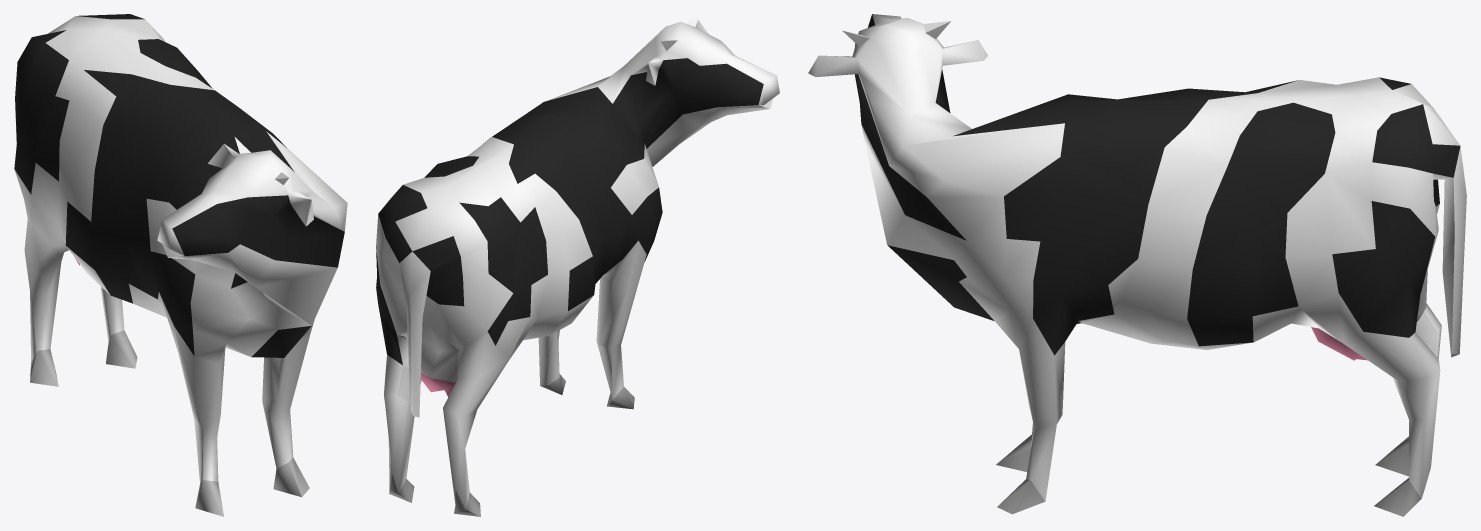
File: cow_001.glb
3 renders of one model, left to right at view 1: azimuth 30°, elevation 25°; view 2: azimuth 150°, elevation 25°; view 3: azimuth 270°, elevation 25°, orthographic. The views are drawn at different scales.
Visible parts, largest first — view 1: cow_001; view 2: cow_001; view 3: cow_001.
Part boxes in pixels (box(x1,y1,x2,y2)): cow_001: box(14, 14, 347, 516); cow_001: box(376, 14, 779, 516); cow_001: box(808, 14, 1466, 516).
Bounding box in the file's own units: 1.26 × 2.01 × 2.72.
Materials: 1 (1 with a texture image).
